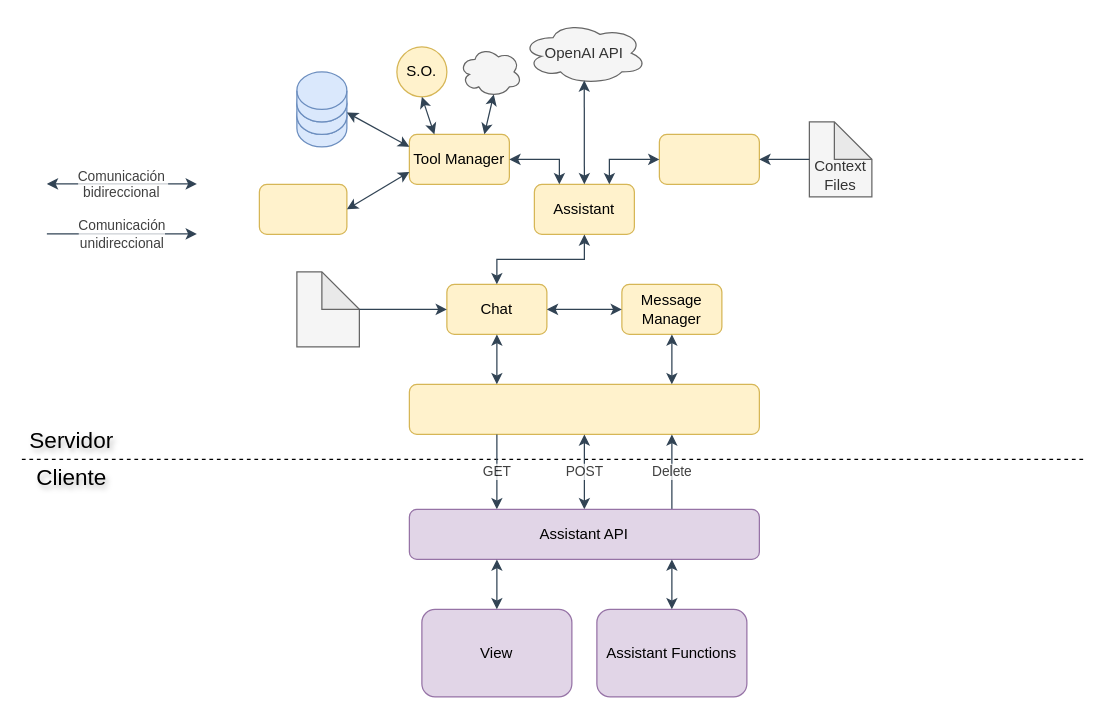
This 1108x719 diagram has some shape labels left out. The shapes that lost their labels are listed below. From the top down, each one's centre as x and y in pixels, then its label:
At point (490, 71): "API".
At point (708, 158): "Context Manager".
At point (302, 208): "functions()".
At point (327, 309): "System Message".
At point (583, 408): "End Points".
